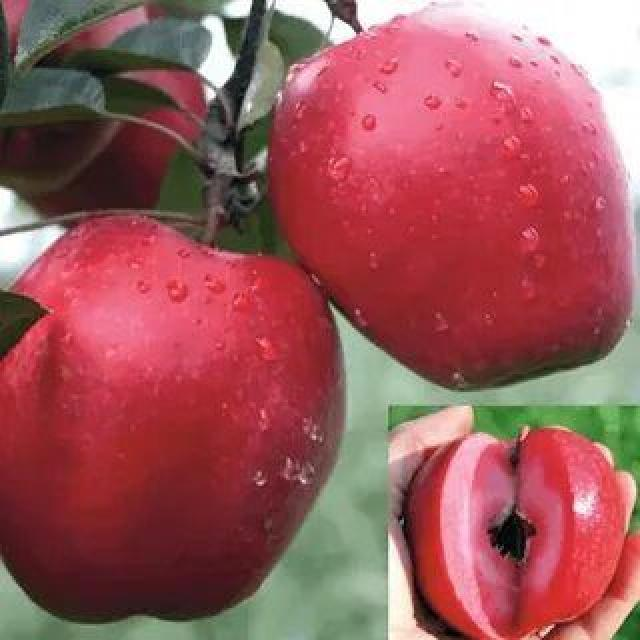Fresh Apple: (267, 19, 630, 384), (25, 230, 333, 607)
